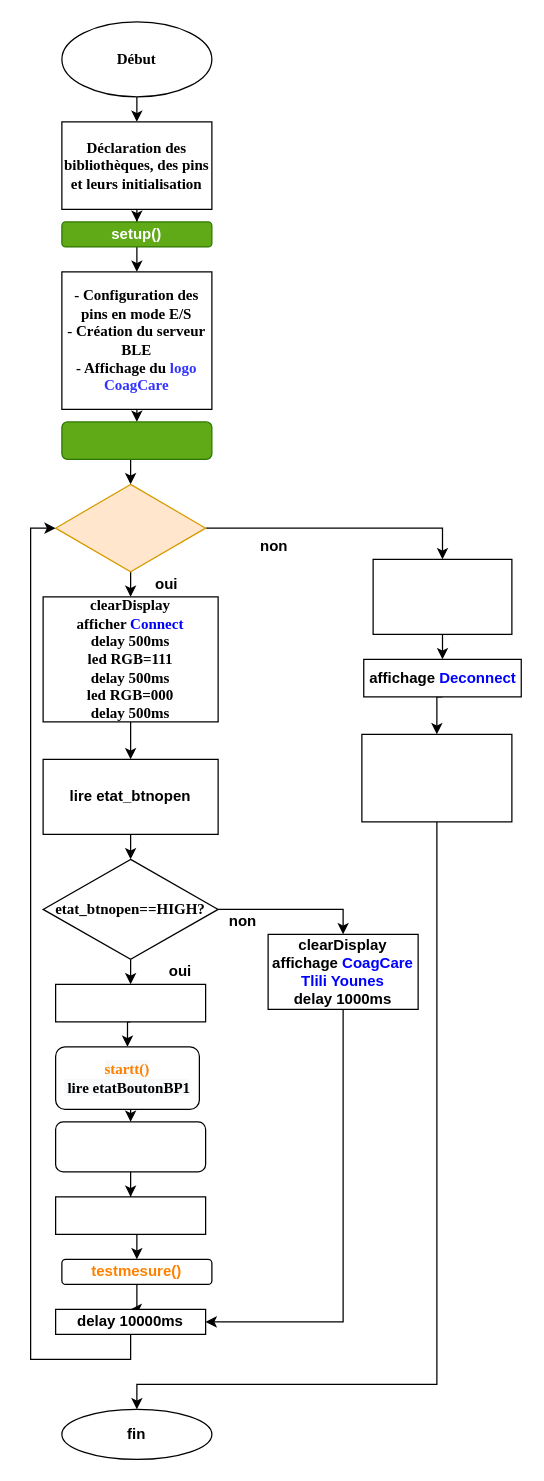
Some shapes in this 544 by 1481 pixel diagram are drawn without their labels. The box of each missing label's shape, as (x1, y1, x2, y2) in pixels:
connecte?: (54, 483, 206, 572)
delay 2500ms clearDisplay delay 50ms: (361, 733, 512, 822)
delay 250ms: (54, 983, 206, 1022)
delay 500ms startAdvertising() clearDisplay: (372, 558, 512, 634)
lire etat_BoutonBP2 delay 2000ms: (54, 1196, 206, 1234)
loop(): (61, 421, 212, 459)
test_bandlette() delay 2000ms: (54, 1121, 206, 1172)
